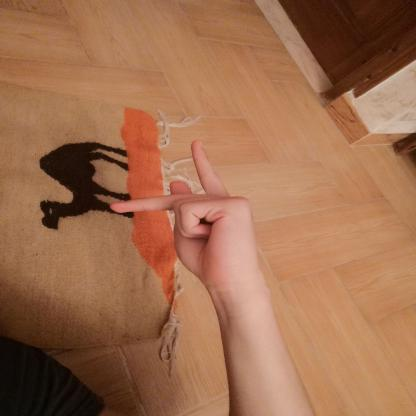DHAA: (96, 132, 273, 293)
